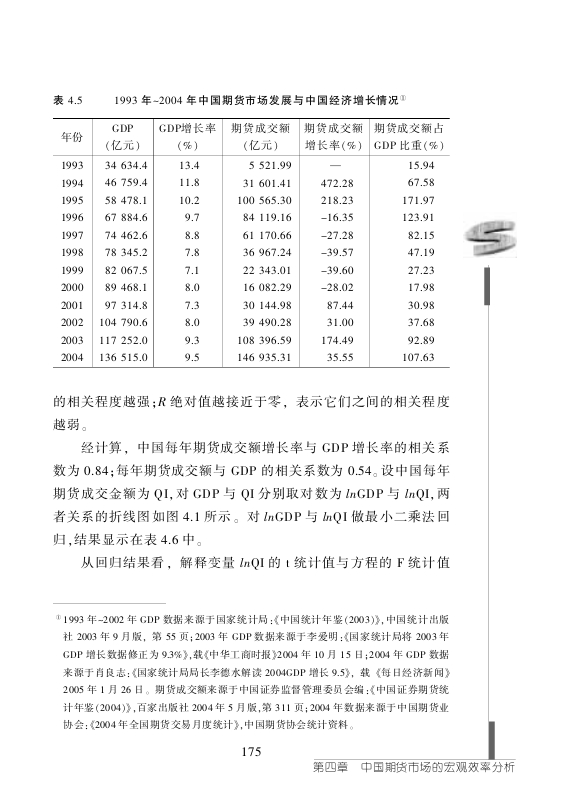table: (52, 118, 449, 368)
